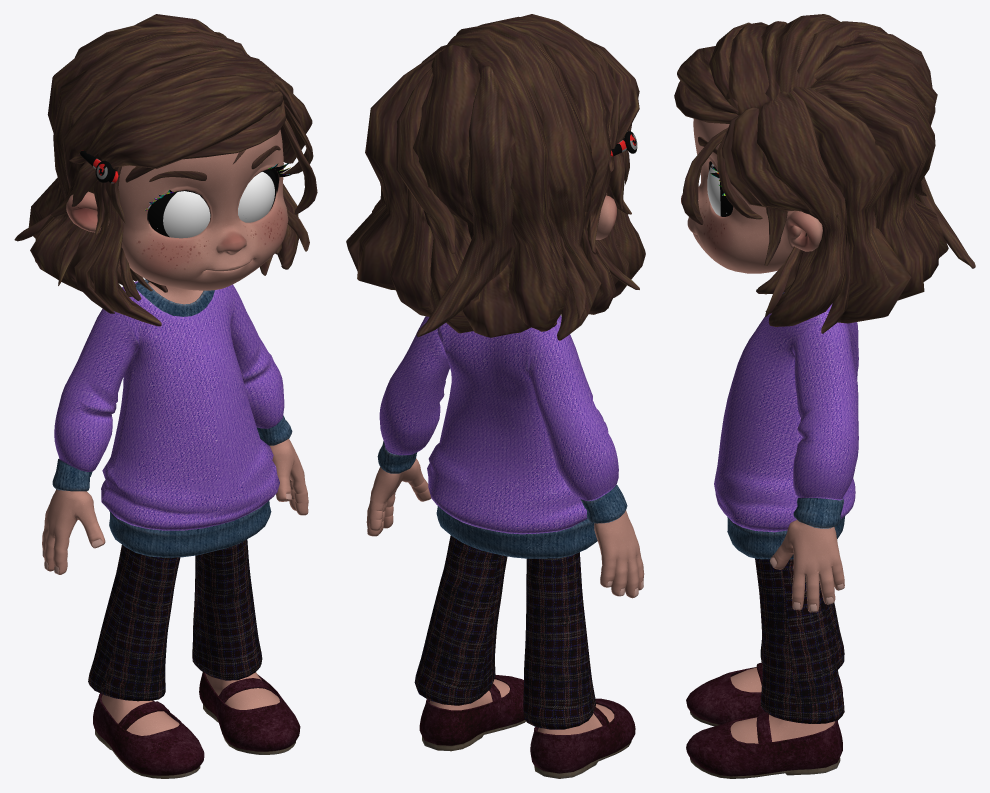
File: nvhai02.fbx
The picture shows the model from 3 angles, left to right: view 1: azimuth 30°, elevation 25°; view 2: azimuth 150°, elevation 25°; view 3: azimuth 270°, elevation 25°; orthographic projection. The views are drawn at different scales.
Parts seen in each view (by area): view 1: Shirt, Hair, Pants, Head, Flats, Body, Cornea_R, Cornea_L, Brows, Hair_Clip; view 2: Hair, Shirt, Pants, Flats, Body, Head; view 3: Hair, Shirt, Pants, Flats, Head, Body, Cornea_L.
Boxes of the visible parts, x1,y1,x2,y2 form: Shirt: [52, 279, 292, 557]; Hair: [14, 14, 317, 326]; Pants: [88, 539, 262, 701]; Head: [66, 129, 288, 304]; Flats: [93, 672, 300, 778]; Body: [42, 439, 308, 735]; Cornea_R: [148, 191, 210, 238]; Cornea_L: [238, 170, 276, 222]; Brows: [149, 145, 280, 181]; Hair_Clip: [80, 150, 118, 183]; Hair: [346, 14, 645, 340]; Shirt: [377, 315, 627, 558]; Pants: [414, 535, 595, 729]; Flats: [419, 675, 635, 778]; Body: [366, 458, 644, 734]; Head: [595, 193, 616, 239]; Hair: [674, 14, 975, 333]; Shirt: [714, 292, 858, 559]; Pants: [755, 558, 844, 723]; Flats: [686, 662, 842, 778]; Head: [681, 118, 822, 273]; Body: [730, 520, 844, 743]; Cornea_L: [707, 163, 733, 216].
Size of the model in its own units: 36.85 by 95.21 by 36.39.
11 materials, 6 textured.
